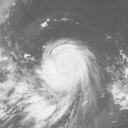cyclone: (40, 38, 93, 93)
